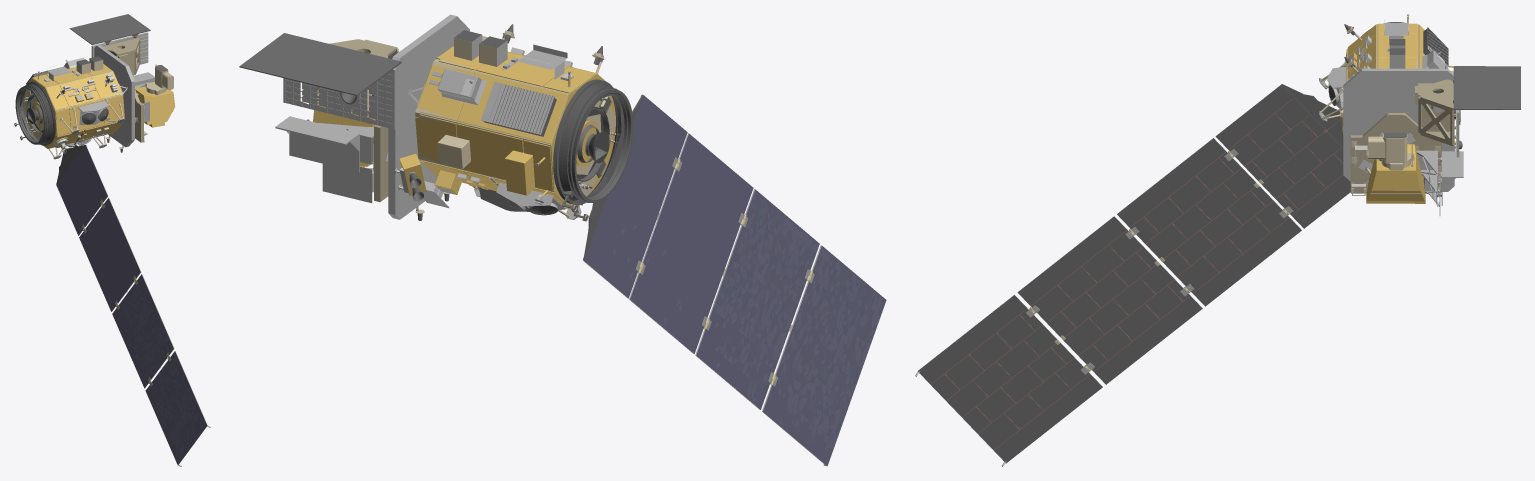
File: landsat-8.glb
3 renders of one model, left to right at view 1: azimuth 30°, elevation 25°; view 2: azimuth 150°, elevation 25°; view 3: azimuth 270°, elevation 25°, orthographic. The views are drawn at different scales.
Visible parts, largest first — view 1: Layer_0; view 2: Layer_0; view 3: Layer_0.
Boxes of the visible parts, bbox=[...] form: Layer_0: bbox=[14, 14, 210, 466]; Layer_0: bbox=[239, 14, 886, 466]; Layer_0: bbox=[915, 14, 1520, 466].
Bounding box in the file's own units: 3.65 × 7.37 × 9.
